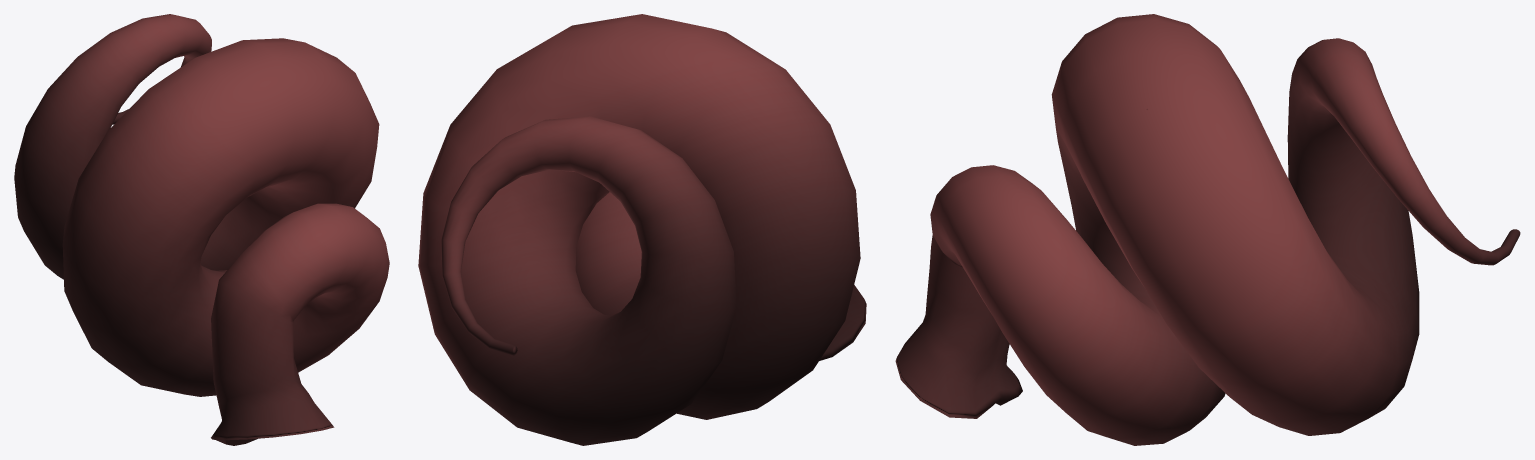
Rendered from spiral.glb.
The picture shows the model from 3 angles, left to right: view 1: azimuth 30°, elevation 25°; view 2: azimuth 150°, elevation 25°; view 3: azimuth 270°, elevation 25°; orthographic projection. The views are drawn at different scales.
Visible parts, largest first — view 1: cs_spiral4; view 2: cs_spiral4; view 3: cs_spiral4.
Boxes of the visible parts, <box> form: cs_spiral4: <box>14,14,389,445</box>; cs_spiral4: <box>418,14,866,445</box>; cs_spiral4: <box>895,14,1520,445</box>.
Bounding box in the file's own units: 0.0874 × 0.0839 × 0.1181.
Materials: 1 (1 with a texture image).
